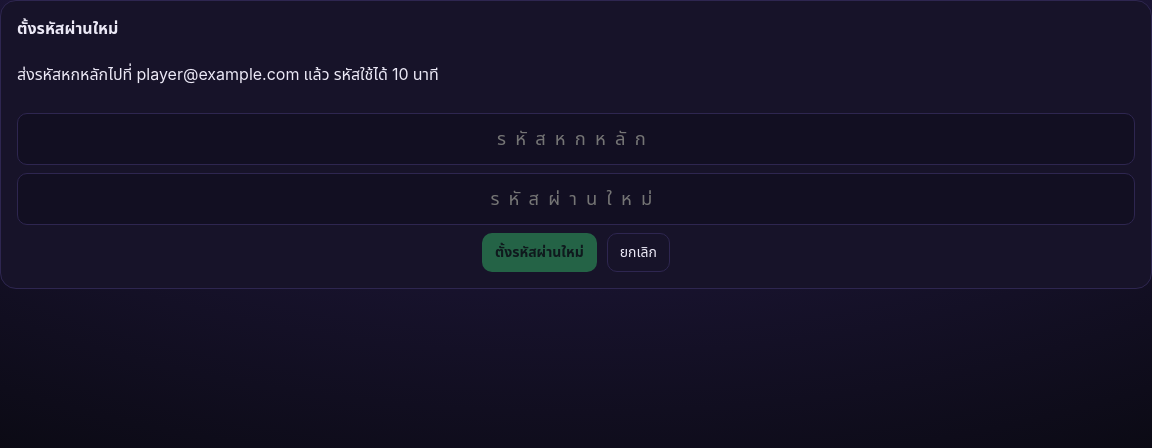
Test: รหัสผ่านใหม่อ่อนเกินไปขึ้นข้อความ แล้วยังกรอกต่อได้โดยไม่เสียรหัสจากอีเมล
This screenshot has width=1152, height=448.
Type "123456" into the field labelled "รหัสหกหลัก". click: (576, 139)
box: [17,113,1135,165]
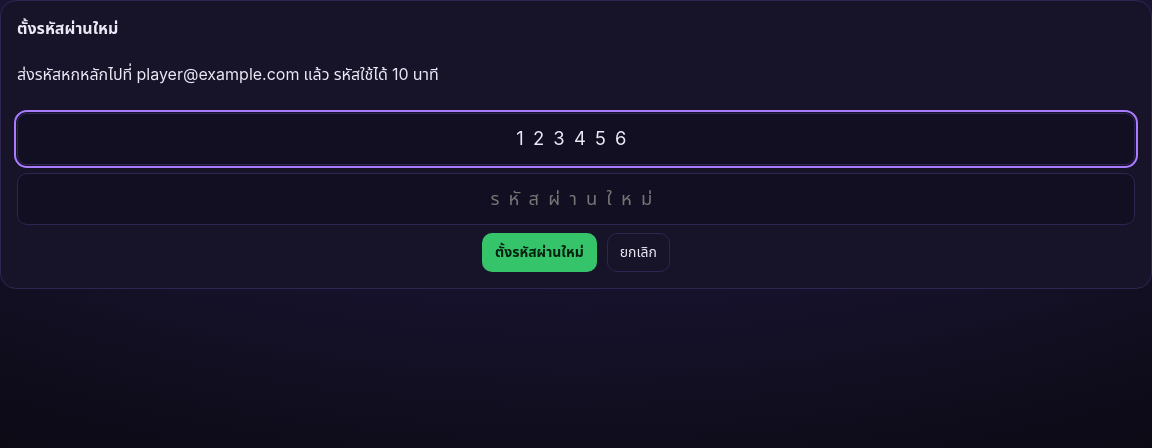
Type "sh0rt" into the password field labelled "รหัสผ่านใหม่". click: (576, 199)
box: [17,173,1135,225]
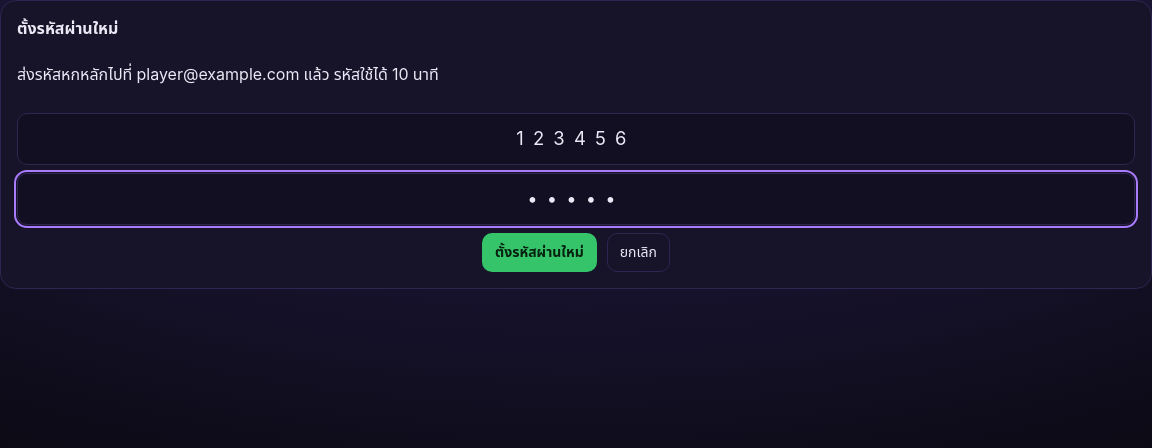
Click the button "ตั้งรหัสผ่านใหม่". click: (539, 252)
box: [482,233,597,272]
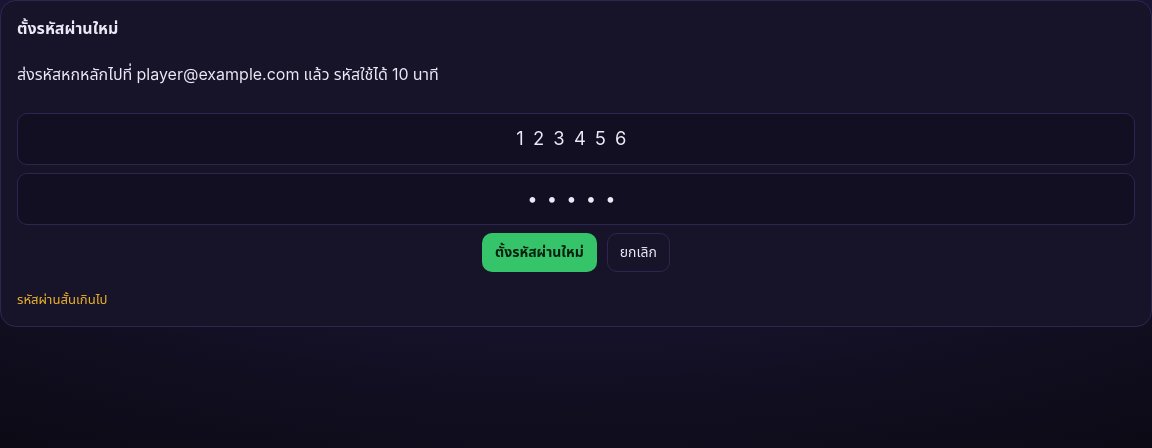
expect the text "รหัสผ่านสั้นเกินไป" is shown: met, box [17,290,108,310]
